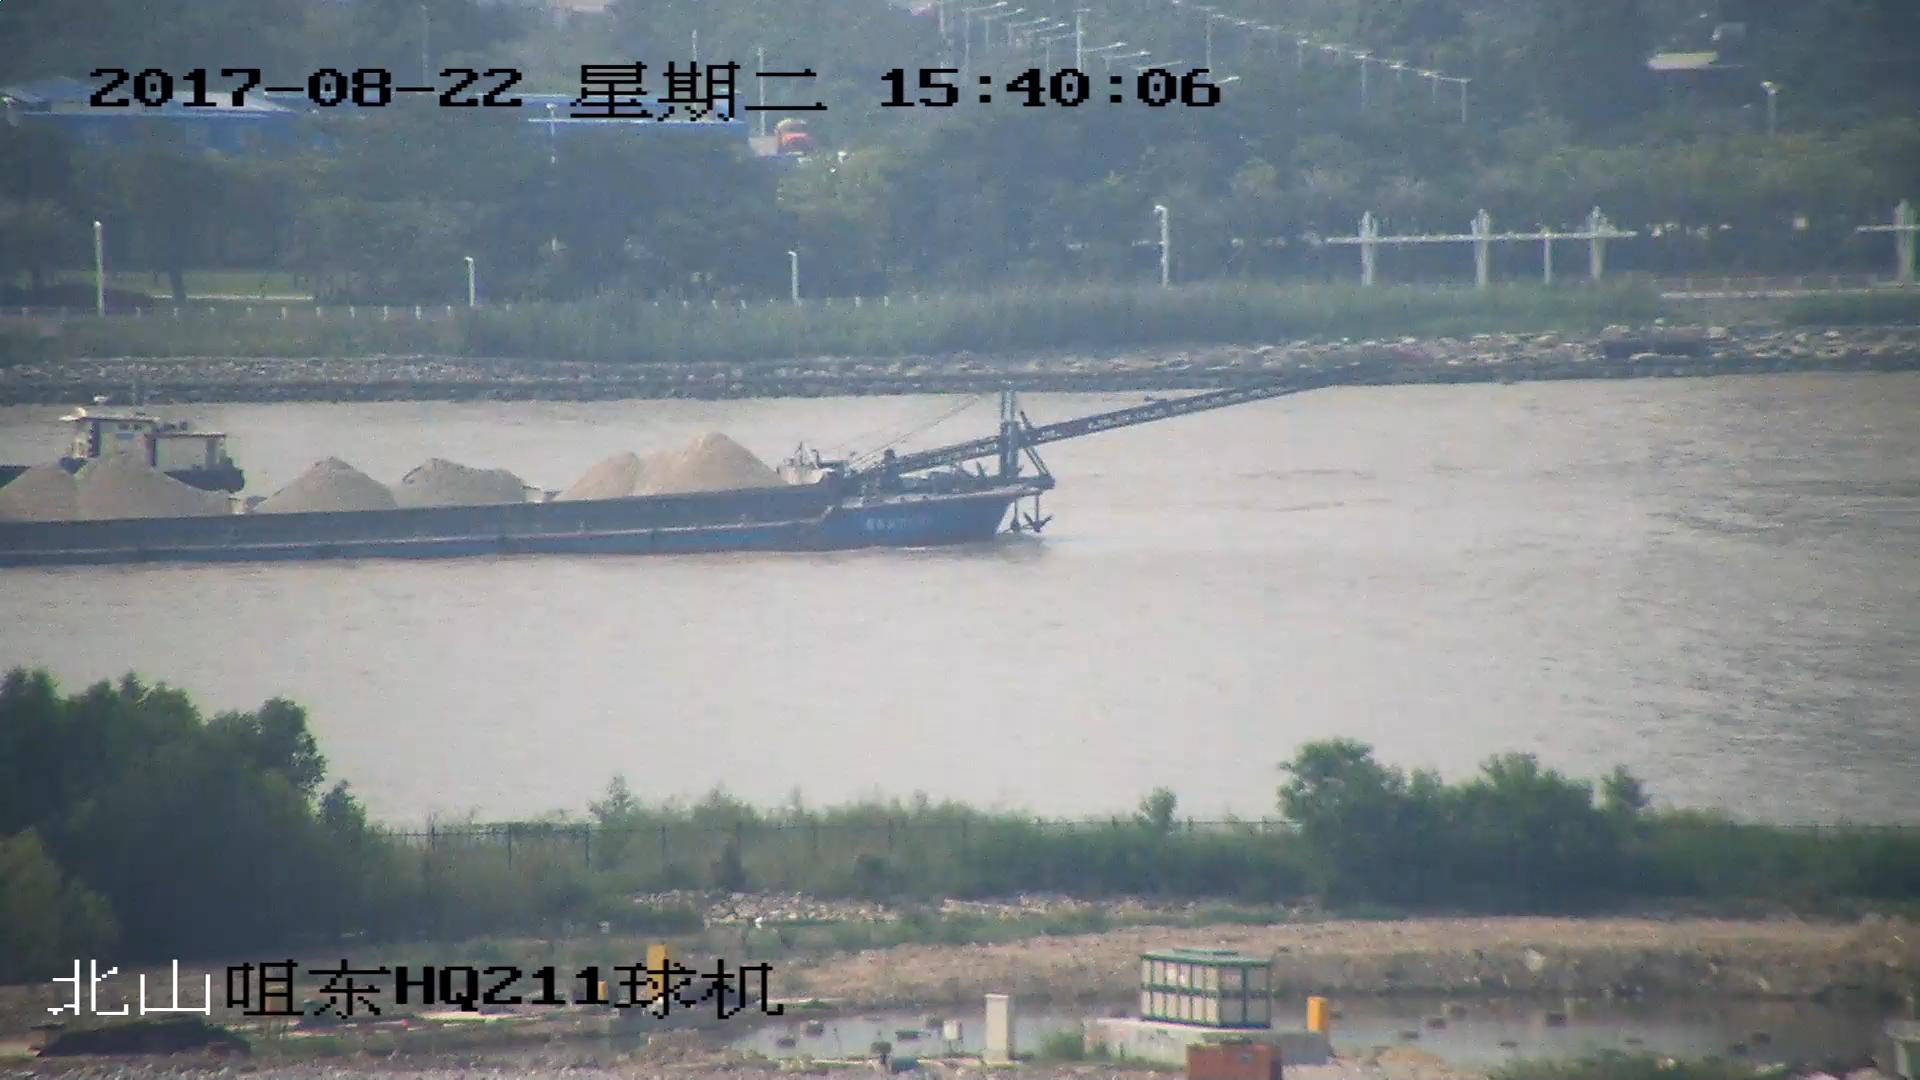fishing boat: (1, 402, 248, 508)
ore carrier: (1, 365, 1387, 571)
